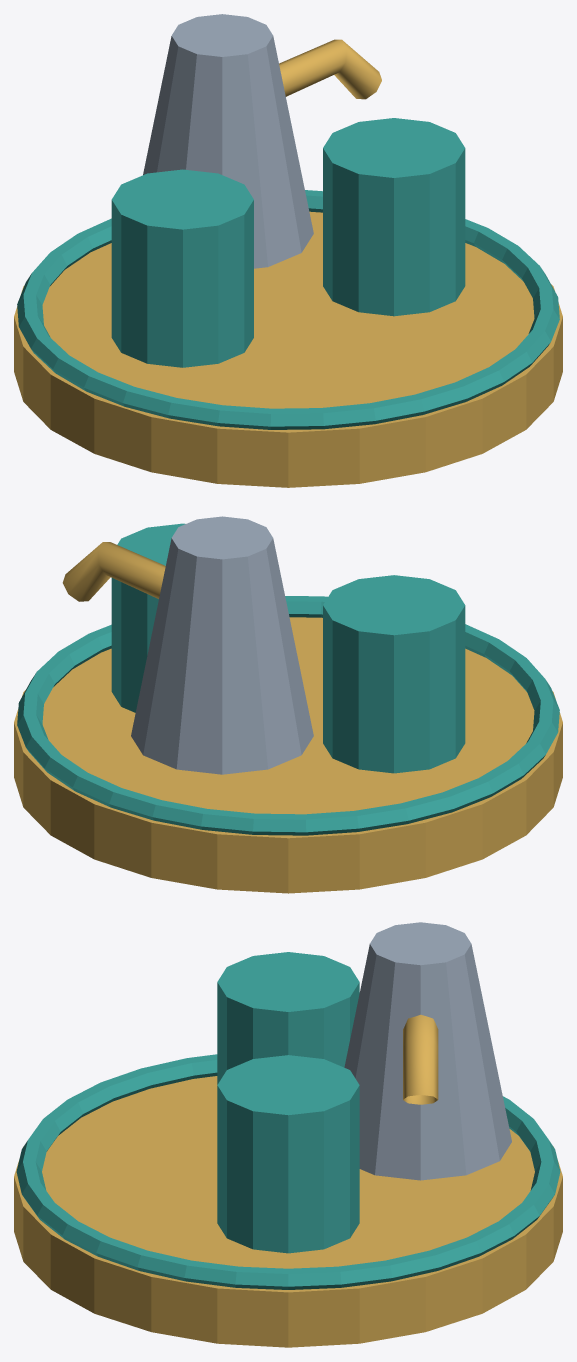
The model's file is morocco-tea-tray.glb.
3 views of the same model, one above another, from view 1: azimuth 30°, elevation 25°; view 2: azimuth 150°, elevation 25°; view 3: azimuth 270°, elevation 25° (orthographic).
Parts seen in each view (by area): view 1: ちゃの おぼん, こっぷ, こっぷ.001, おちゃの ポット, おぼんの ふち, つぎくち; view 2: ちゃの おぼん, おちゃの ポット, こっぷ, おぼんの ふち, こっぷ.001, つぎくち; view 3: ちゃの おぼん, おちゃの ポット, こっぷ.001, おぼんの ふち, こっぷ, つぎくち.
Boxes of the visible parts, x1,y1,x2,y2 form: ちゃの おぼん: (14, 211, 562, 487); こっぷ: (111, 169, 253, 367); こっぷ.001: (323, 118, 465, 316); おちゃの ポット: (143, 14, 313, 268); おぼんの ふち: (17, 190, 559, 429); つぎくち: (279, 39, 381, 99); ちゃの おぼん: (14, 617, 562, 893); おちゃの ポット: (131, 516, 313, 774); こっぷ: (323, 575, 465, 773); おぼんの ふち: (17, 596, 559, 835); こっぷ.001: (111, 523, 185, 712); つぎくち: (62, 542, 165, 601); ちゃの おぼん: (14, 1076, 562, 1347); おちゃの ポット: (344, 922, 511, 1180); こっぷ.001: (217, 1055, 359, 1253); おぼんの ふち: (16, 1054, 560, 1289); こっぷ: (217, 952, 359, 1084); つぎくち: (403, 1014, 438, 1104).
Bounding box in the file's own units: 1.08 × 0.625 × 1.08.
